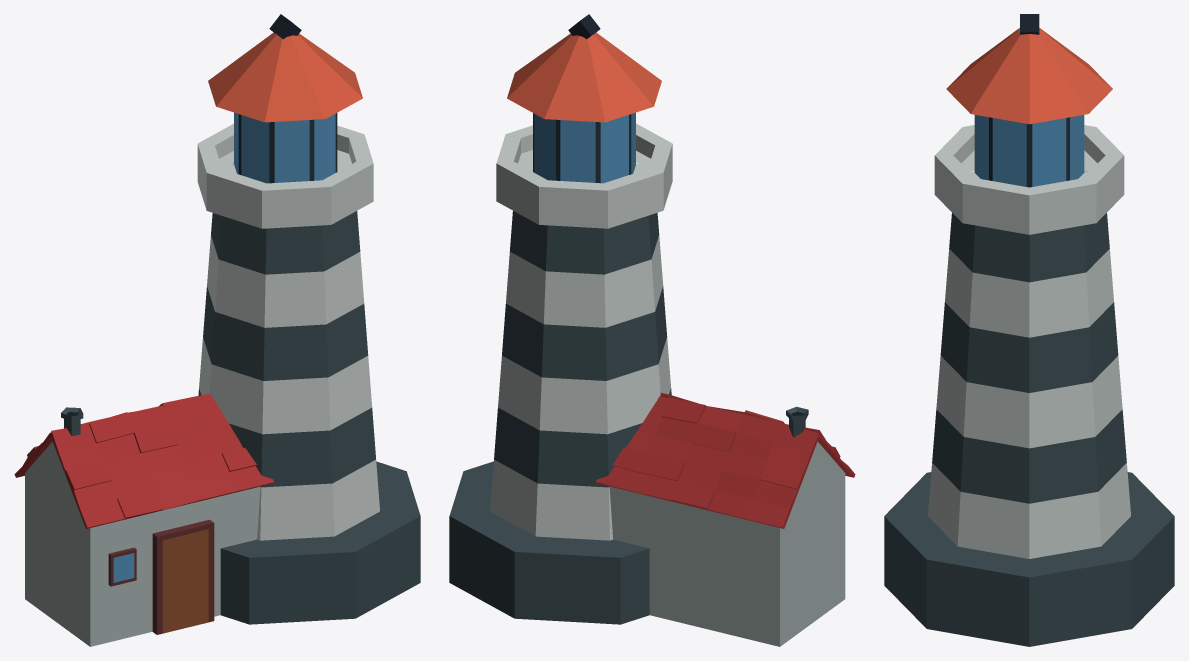
The model's file is lighthouse.glb.
The picture shows the model from 3 angles, left to right: view 1: azimuth 30°, elevation 25°; view 2: azimuth 150°, elevation 25°; view 3: azimuth 270°, elevation 25°; orthographic projection. The views are drawn at different scales.
Parts seen in each view (by area): view 1: маяк-дом; view 2: маяк-дом; view 3: маяк-дом.
Boxes of the visible parts, bbox=[...] form: маяк-дом: bbox=[14, 14, 420, 646]; маяк-дом: bbox=[449, 14, 855, 646]; маяк-дом: bbox=[884, 14, 1174, 646].
Size of the model in its own units: 4.32 by 6.37 by 2.93.
1 material, 1 textured.
